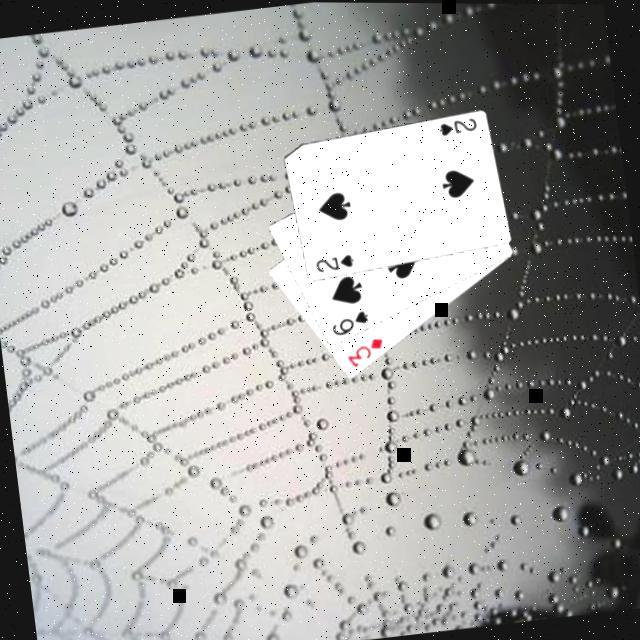2S: (310, 250, 356, 276), (432, 114, 478, 139)
3D: (340, 334, 388, 372)
6S: (326, 306, 372, 339)
